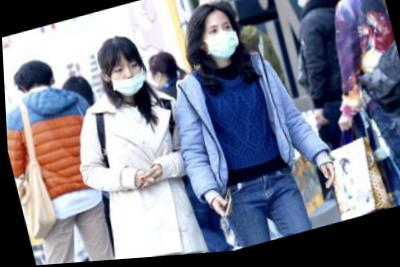OK: (201, 18, 241, 67)
WRONG: (106, 54, 148, 103)
